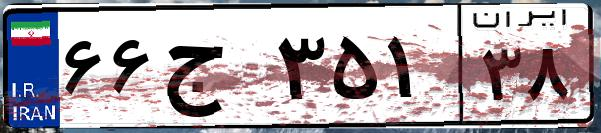1: (385, 28, 445, 110)
3: (270, 28, 330, 110), (475, 38, 525, 113)
5: (330, 28, 385, 110)
6: (57, 26, 110, 100), (110, 28, 158, 98)
8: (525, 38, 570, 115)
ج: (158, 20, 270, 120)
